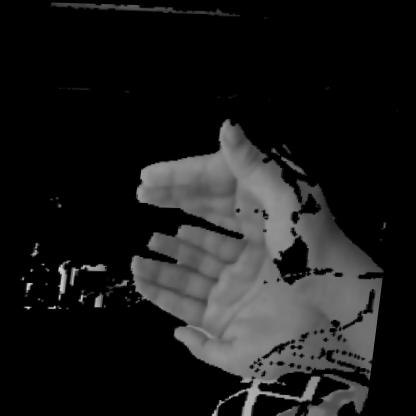dua: (95, 75, 407, 409)
